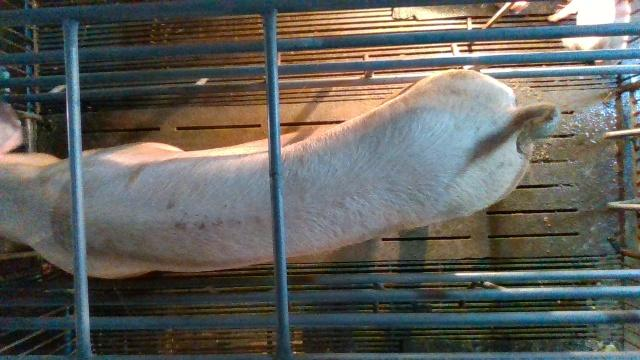piglet: (548, 0, 617, 50)
sow-stand-feed: (0, 69, 562, 278)
